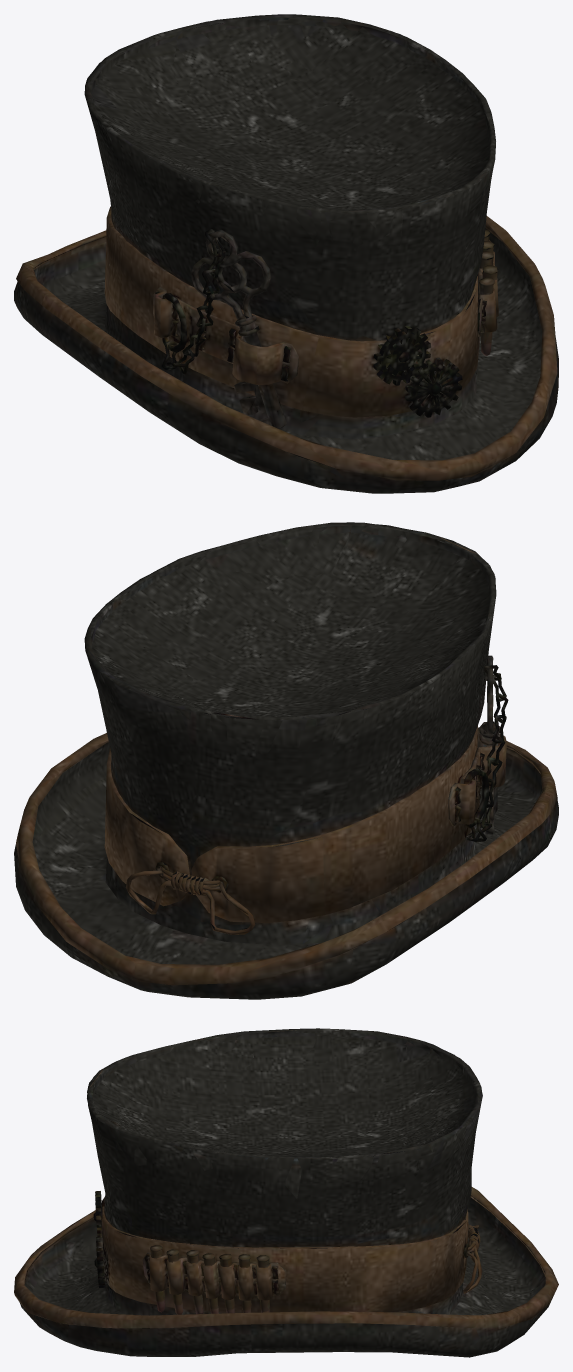
Rendered from hat5.glb.
3 views of the same model, one above another, from view 1: azimuth 30°, elevation 25°; view 2: azimuth 150°, elevation 25°; view 3: azimuth 270°, elevation 25° (orthographic). The views are drawn at different scales.
Visible parts, largest first — view 1: hat.001; view 2: hat.001; view 3: hat.001.
Boxes of the visible parts, x1,y1,x2,y2 form: hat.001: (14, 14, 558, 493); hat.001: (14, 522, 558, 999); hat.001: (14, 1028, 558, 1357).
Bounding box in the file's own units: 1.39 × 0.8279 × 1.88.
Materials: 1 (1 with a texture image).
